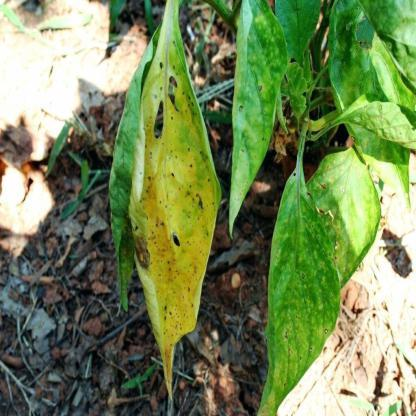Bell_pepper leaf: (131, 17, 225, 415), (249, 160, 342, 416), (222, 2, 288, 242), (104, 43, 144, 325), (340, 85, 416, 157)
